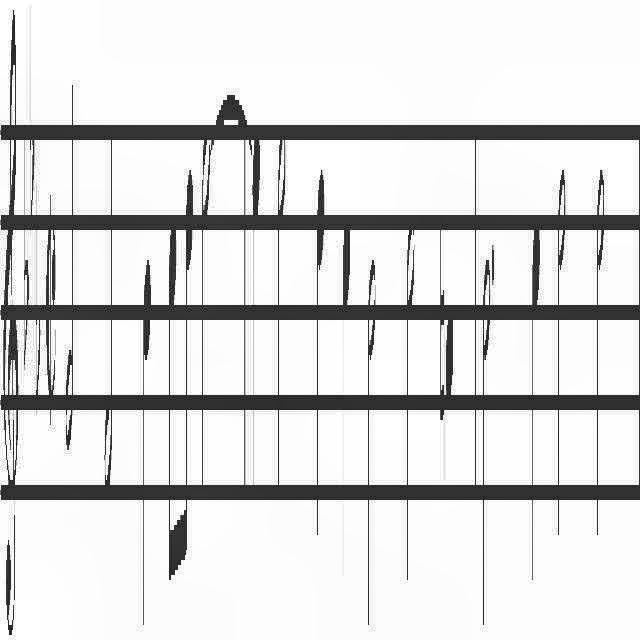Bass-clef: (2, 10, 18, 634)
Bemol: (23, 125, 29, 375), (34, 180, 40, 420), (30, 1, 34, 236)
Eighth-note: (180, 160, 194, 596), (168, 200, 176, 610)
Half-note: (104, 104, 115, 500), (201, 110, 211, 514), (276, 120, 286, 524), (65, 70, 75, 460), (405, 215, 415, 600), (481, 260, 491, 636), (596, 155, 604, 560), (558, 170, 566, 560), (367, 250, 375, 634)
Quarter-note: (531, 195, 541, 600), (445, 20, 455, 420), (141, 245, 151, 640), (342, 195, 350, 620), (316, 150, 324, 566), (252, 125, 260, 525)
